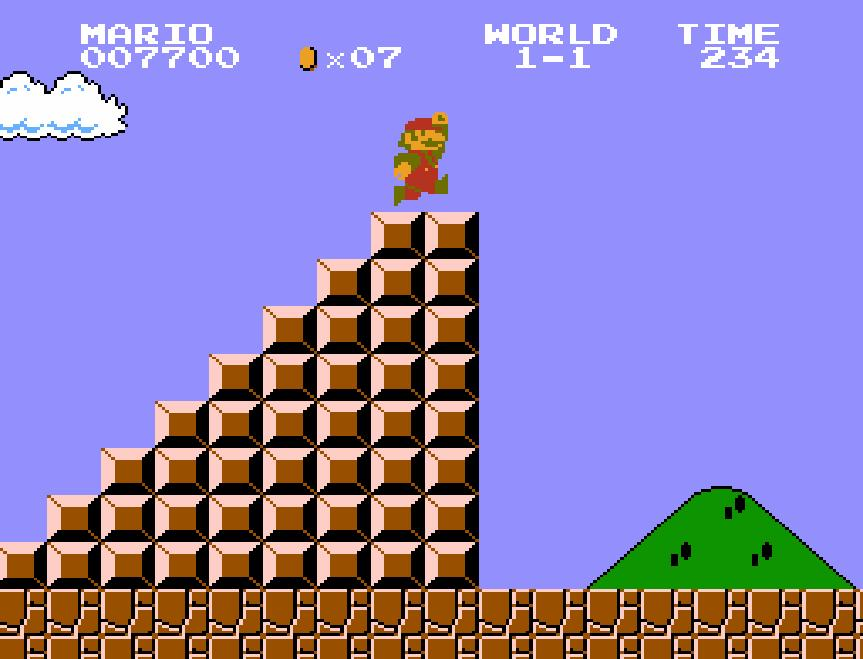big_mario: (392, 109, 450, 207)
